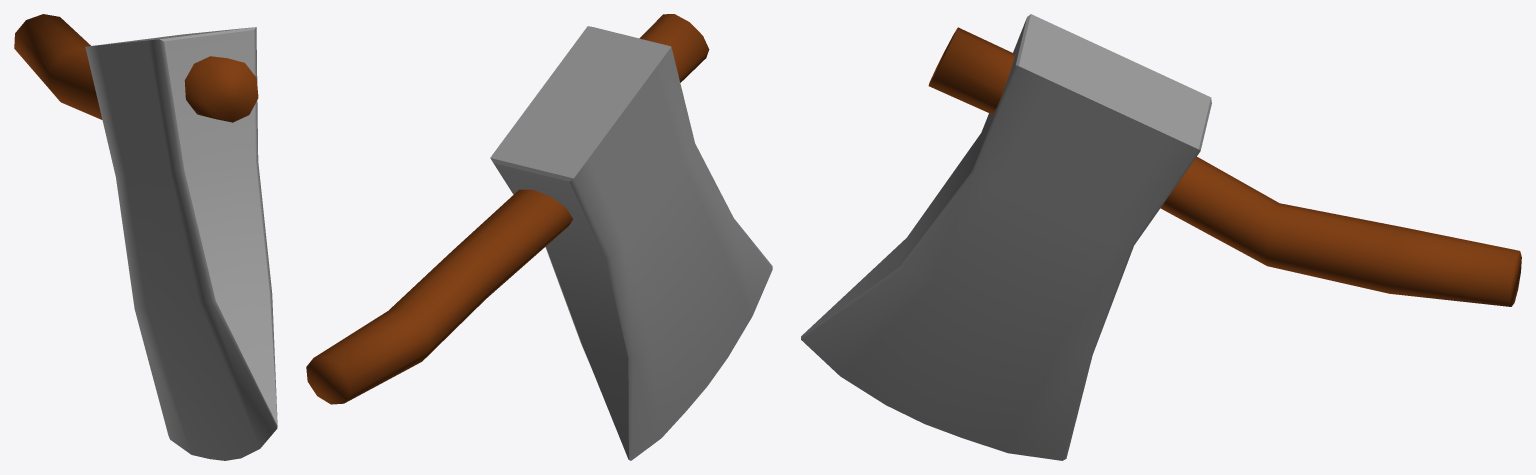
3 views of the same model, side by side, from view 1: azimuth 30°, elevation 25°; view 2: azimuth 150°, elevation 25°; view 3: azimuth 270°, elevation 25° (orthographic). The views are drawn at different scales.
Parts seen in each view (by area): view 1: Box004, Cylinder002; view 2: Box004, Cylinder002; view 3: Box004, Cylinder002.
Boxes of the visible parts, x1,y1,x2,y2 form: Box004: (85,27,277,460); Cylinder002: (14,14,258,122); Box004: (490,26,772,460); Cylinder002: (306,14,709,404); Box004: (801,14,1211,460); Cylinder002: (928,27,1521,306).
Size of the model in its own units: 18.99 by 51.29 by 77.23.
